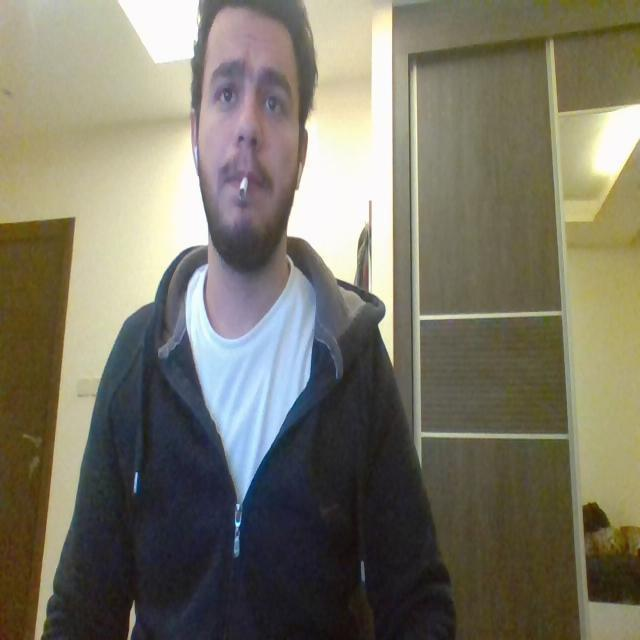smoking: (215, 164, 274, 204)
